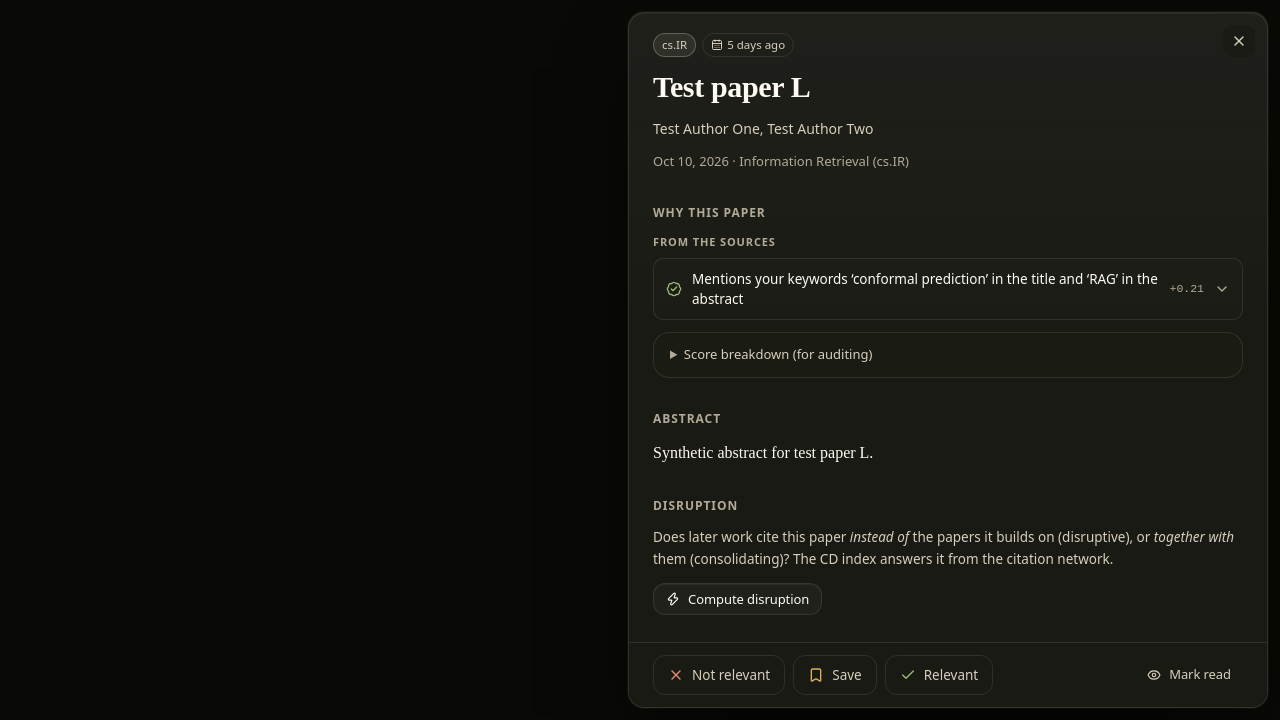
Test: PaperDetailSheet › shows which keyword matched where, and the keyword segment of the score breakdown
expect the element "From the sources" is shown: met, box [653,234,1243,320]
Click the button "Mentions your keywords". click: (948, 289)
box: [654,259,1242,319]
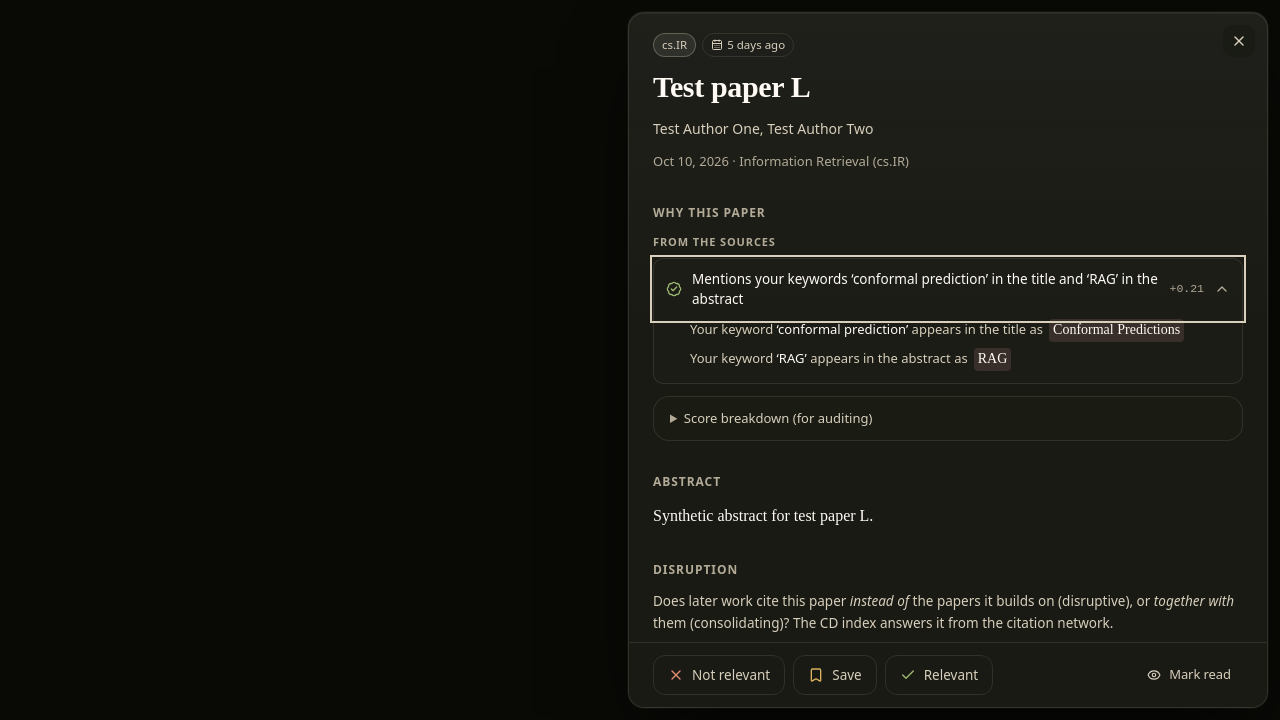
expect the text "Conformal Predictions" is shown: met, box [1049,319,1184,342]
expect the text "Your keyword ‘conformal prediction’ appears in the title as" is shown: met, box [690,319,1043,340]
expect the text "Your keyword ‘RAG’ appears in the abstract as" is shown: met, box [690,348,968,369]
